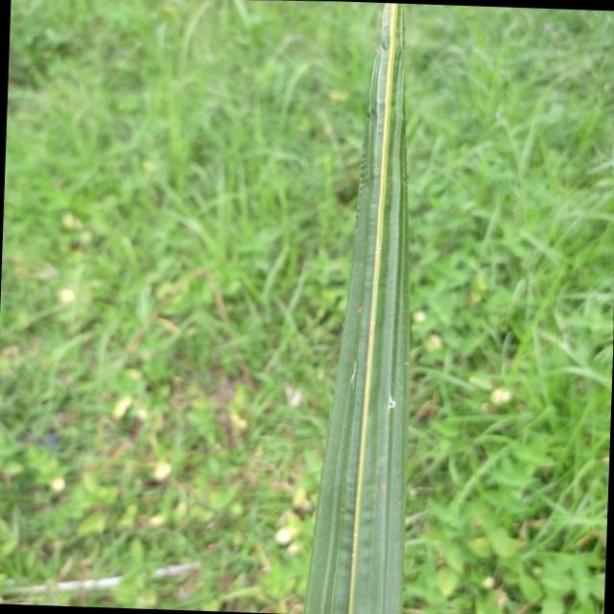Boron: (301, 0, 414, 614)
